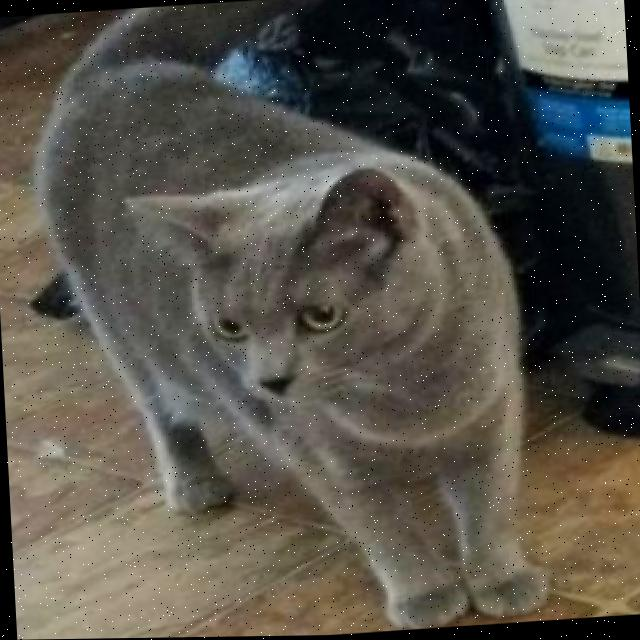Russian Blue: (21, 0, 552, 640)
